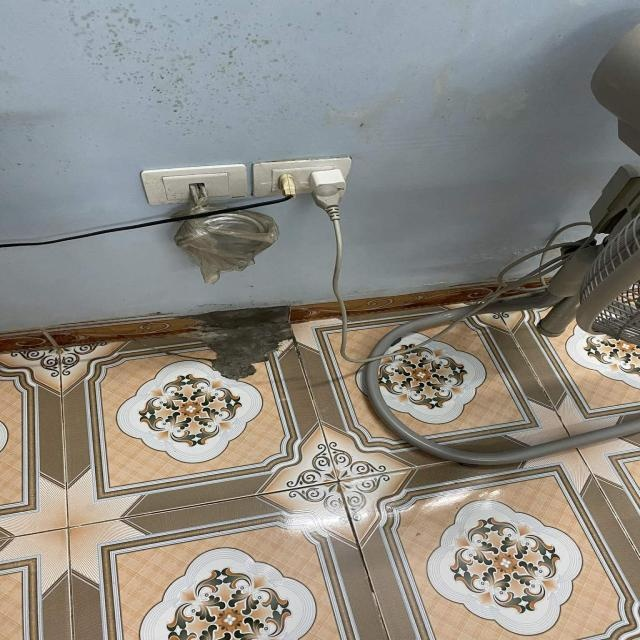outlet: (139, 163, 249, 206), (251, 156, 351, 199)
